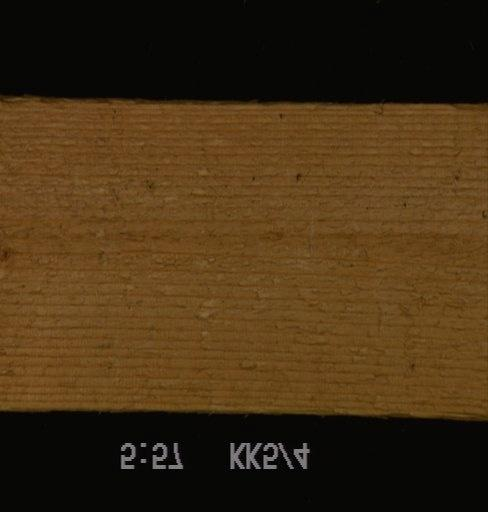small_knot: (0, 242, 12, 269)
wave: (441, 103, 486, 117)
